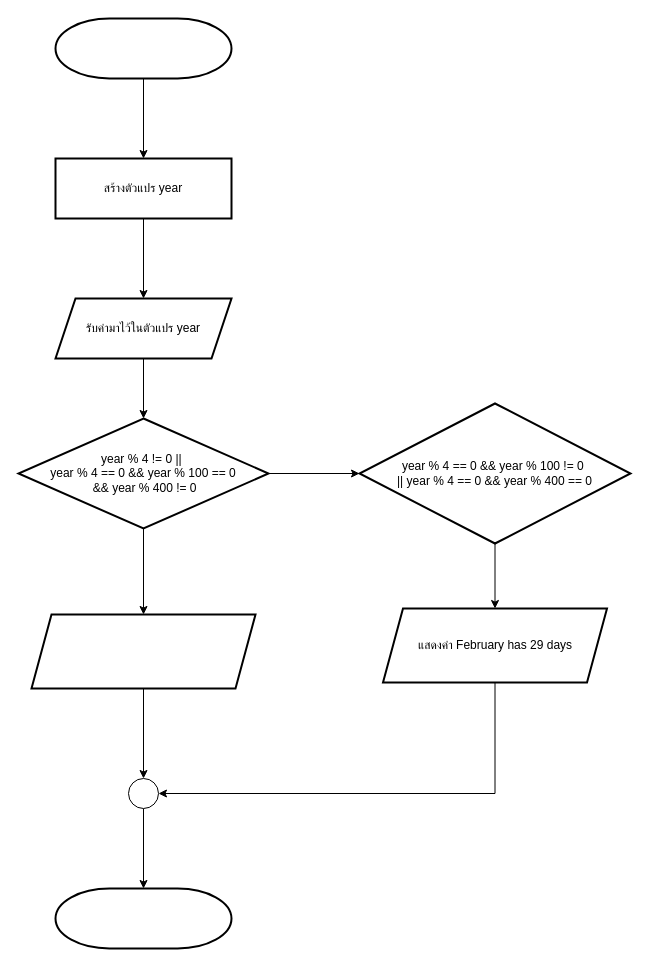
The diagram is 648 pixels wide and 966 high, and some of its shapes have lost their labels. Each missing label, with the box of its shape:
จบ: (54, 887, 232, 949)
เริ่ม: (54, 17, 232, 79)
แสดงค่า February has 28 days: (30, 613, 256, 689)
